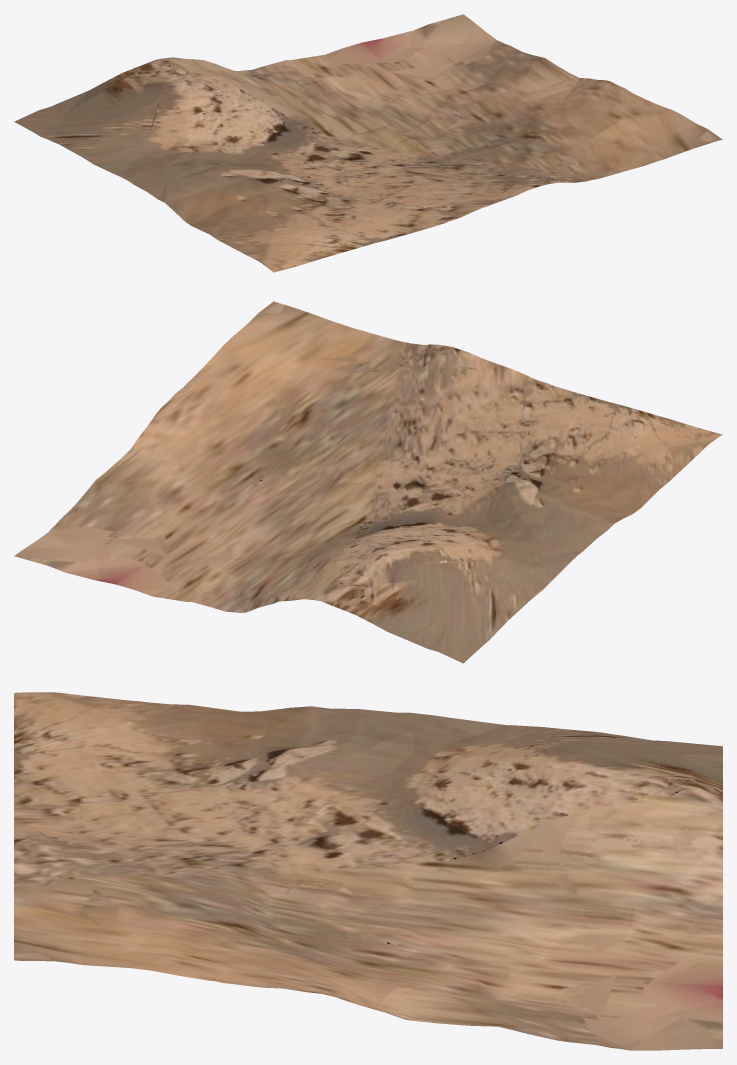
The picture shows the model from 3 angles, top to bottom: view 1: azimuth 30°, elevation 25°; view 2: azimuth 150°, elevation 25°; view 3: azimuth 270°, elevation 25°; orthographic projection. The views are drawn at different scales.
Size of the model in its own units: 1.04 by 0.1586 by 1.04.
2 materials, 2 textured.
